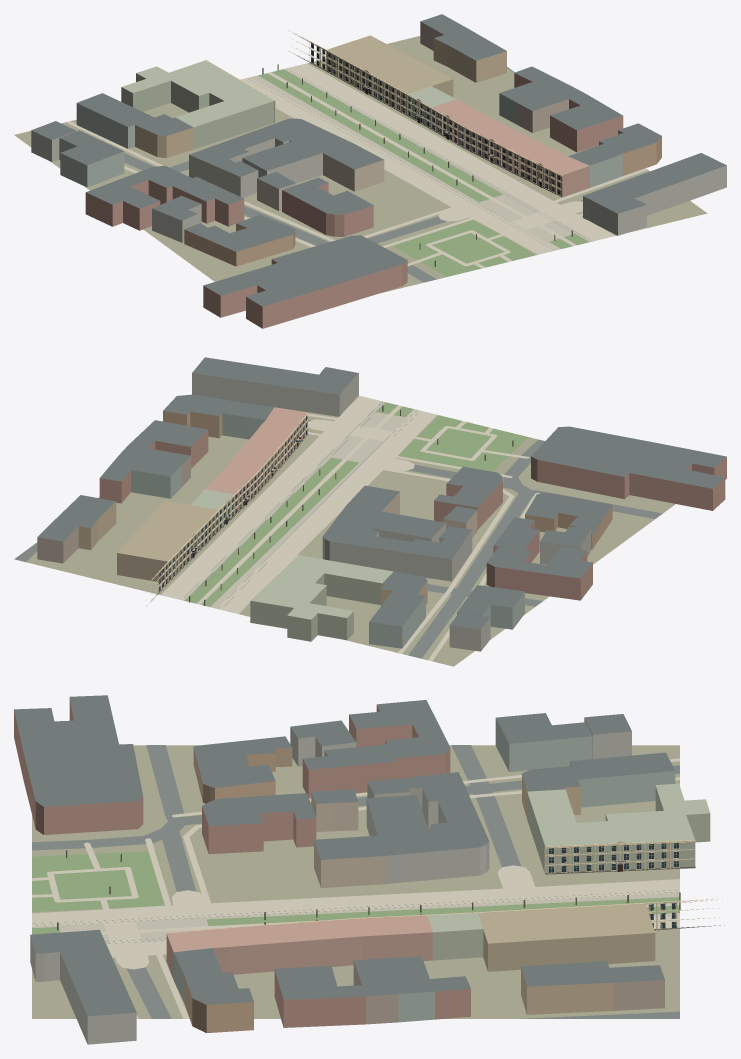
The model's file is sector--1_-4.glb.
3 renders of one model, top to bottom at view 1: azimuth 30°, elevation 25°; view 2: azimuth 150°, elevation 25°; view 3: azimuth 270°, elevation 25°, orthographic. The views are drawn at different scales.
Visible parts, largest first — view 1: -1:-4-facade, -1:-4-roof, -1:-4-masonry, -1:-4-ground, -1:-4-paving, -1:-4-park, -1:-4-stone, -1:-4-boulevard, -1:-4-glass, -1:-4-road; view 2: -1:-4-roof, -1:-4-facade, -1:-4-ground, -1:-4-masonry, -1:-4-paving, -1:-4-park, -1:-4-road, -1:-4-stone, -1:-4-boulevard, -1:-4-glass; view 3: -1:-4-roof, -1:-4-facade, -1:-4-ground, -1:-4-masonry, -1:-4-paving, -1:-4-park, -1:-4-road, -1:-4-stone, -1:-4-boulevard, -1:-4-glass.
Part boxes in pixels (x1,y1,x2,y2): -1:-4-facade: (31, 21, 726, 328); -1:-4-roof: (31, 14, 726, 306); -1:-4-masonry: (121, 35, 589, 197); -1:-4-ground: (14, 36, 707, 292); -1:-4-paving: (66, 63, 647, 268); -1:-4-park: (258, 69, 588, 276); -1:-4-stone: (206, 29, 562, 196); -1:-4-boulevard: (252, 69, 607, 249); -1:-4-glass: (311, 43, 560, 194); -1:-4-road: (124, 67, 582, 282); -1:-4-roof: (37, 357, 726, 629); -1:-4-facade: (37, 373, 726, 651); -1:-4-ground: (26, 395, 675, 666); -1:-4-masonry: (117, 407, 393, 641); -1:-4-paving: (161, 396, 539, 661); -1:-4-park: (184, 402, 528, 606); -1:-4-road: (14, 420, 662, 658); -1:-4-stone: (146, 412, 308, 621); -1:-4-boulevard: (162, 401, 414, 612); -1:-4-glass: (159, 416, 307, 591); -1:-4-roof: (14, 695, 674, 1016); -1:-4-facade: (14, 698, 675, 1044); -1:-4-ground: (32, 745, 679, 1018); -1:-4-masonry: (166, 783, 710, 979); -1:-4-paving: (32, 758, 679, 1018); -1:-4-park: (32, 850, 679, 934); -1:-4-road: (32, 745, 679, 1018); -1:-4-stone: (166, 840, 724, 960); -1:-4-boulevard: (32, 893, 679, 957); -1:-4-glass: (549, 843, 678, 928).
Bounding box in the file's own units: 235 × 10.35 × 220.
